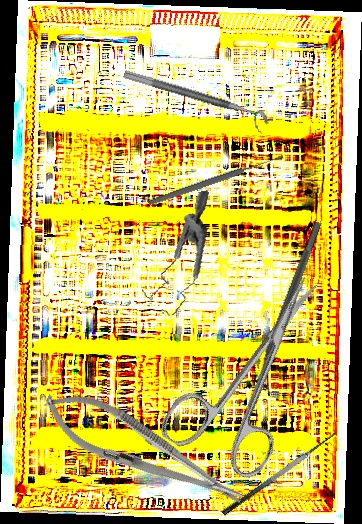Fixation Ring: (244, 217, 332, 397), (119, 69, 272, 135)
Iris Scissors: (155, 253, 361, 491)
Needle Holder: (33, 377, 254, 524)
Spatula Surgical: (214, 423, 341, 517)
Speculum: (125, 190, 231, 320)
Surgical Spoon: (147, 153, 285, 207)
